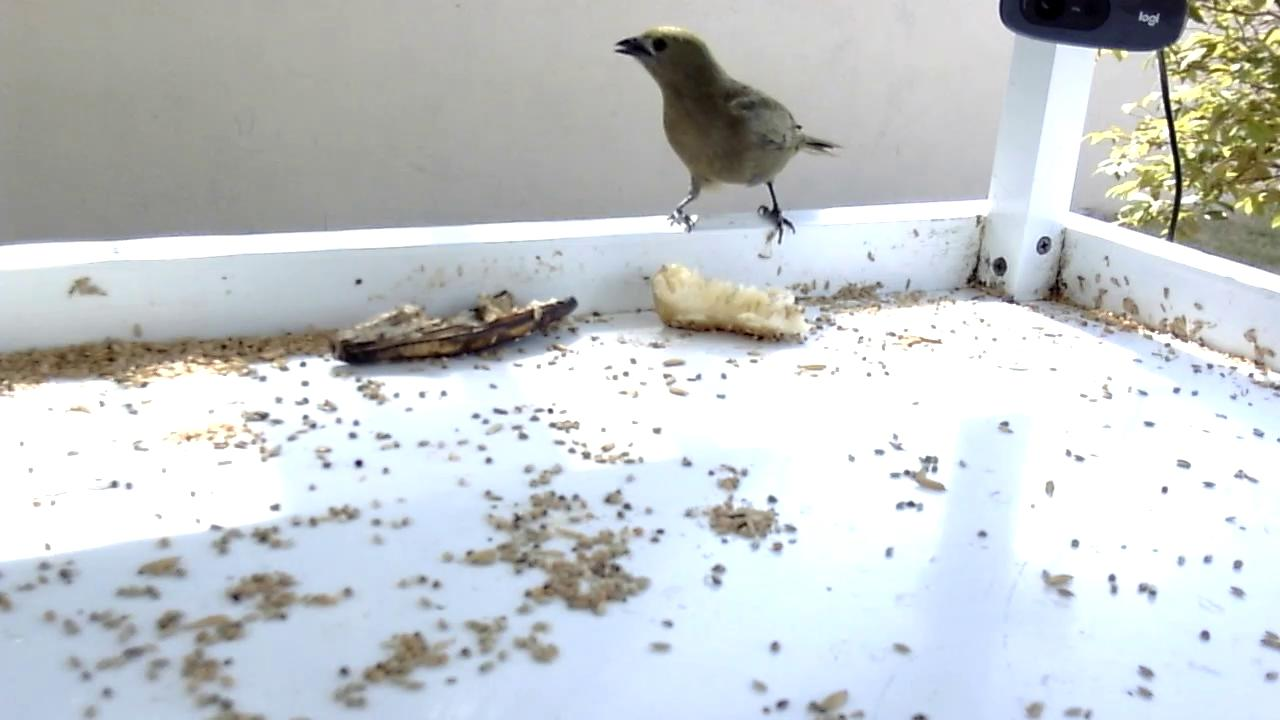sanhaco_do_coqueiro: (615, 25, 843, 249)
